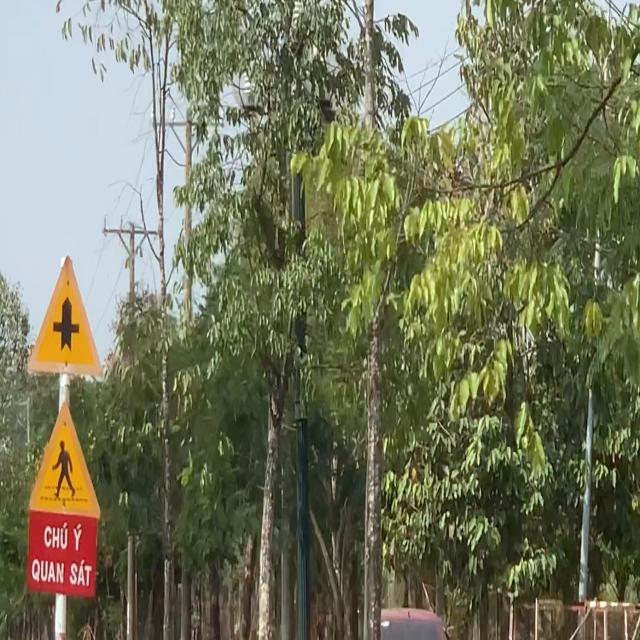Giao voi duong khong uu tien: (26, 254, 104, 381)
Nguoi di bo cat ngang: (28, 400, 102, 520)
